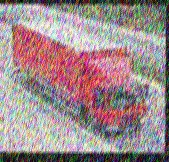truck: (11, 18, 150, 135)
